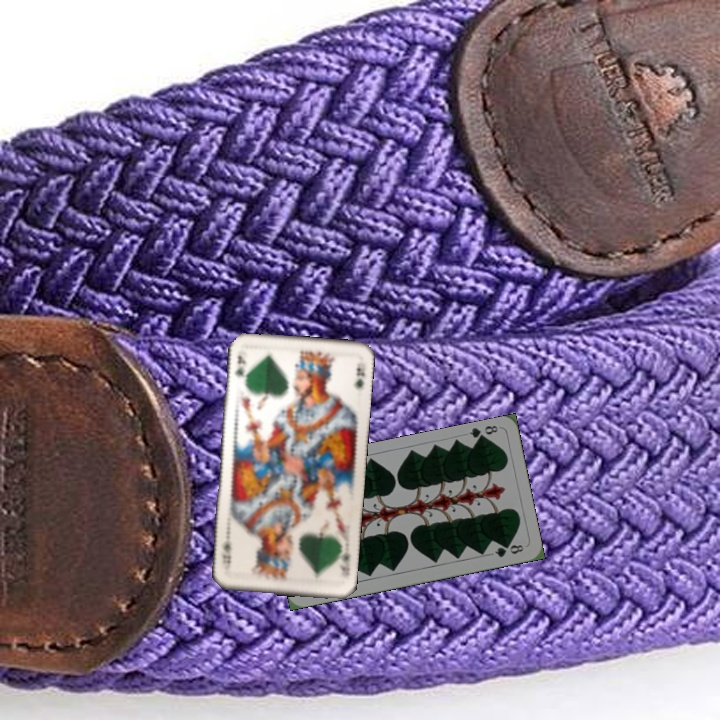G8: (465, 421, 500, 444)
GK: (231, 351, 248, 378), (336, 553, 353, 577)
